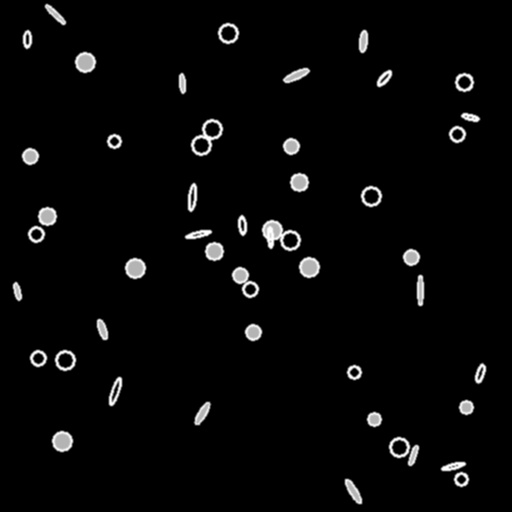pseudomonas: (343, 478, 363, 504), (44, 3, 66, 25), (107, 376, 123, 406), (193, 400, 211, 426), (283, 67, 309, 83), (375, 69, 393, 87), (187, 183, 197, 211), (96, 318, 108, 340), (407, 444, 419, 466), (185, 229, 211, 239), (474, 363, 486, 383), (441, 461, 465, 471), (359, 30, 367, 52), (417, 275, 422, 304), (461, 113, 479, 121), (238, 216, 246, 234), (13, 282, 21, 300), (23, 31, 31, 47), (267, 227, 273, 247), (179, 74, 185, 92)
synechocystis: (263, 221, 281, 239), (219, 24, 237, 42), (300, 258, 318, 276), (203, 120, 221, 138), (126, 259, 144, 277), (192, 136, 210, 154), (390, 438, 408, 456), (362, 187, 380, 205), (281, 231, 299, 249), (56, 351, 74, 369), (76, 53, 94, 71), (53, 432, 71, 450), (206, 243, 222, 259), (291, 174, 307, 190), (456, 74, 472, 90), (39, 208, 55, 224), (404, 250, 418, 264), (29, 227, 43, 241), (31, 351, 45, 365), (450, 127, 464, 141), (23, 149, 37, 163), (243, 282, 257, 296), (246, 325, 260, 339), (284, 139, 298, 153), (233, 268, 247, 282), (348, 366, 360, 378), (460, 401, 472, 413), (455, 473, 467, 485), (368, 413, 380, 425), (108, 135, 120, 147)
